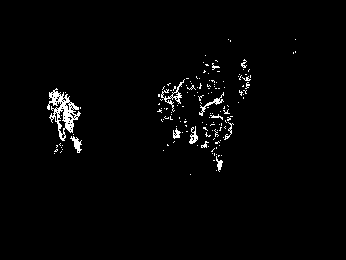person: (44, 85, 86, 155), (198, 89, 234, 170), (173, 77, 202, 145), (157, 80, 181, 140)
